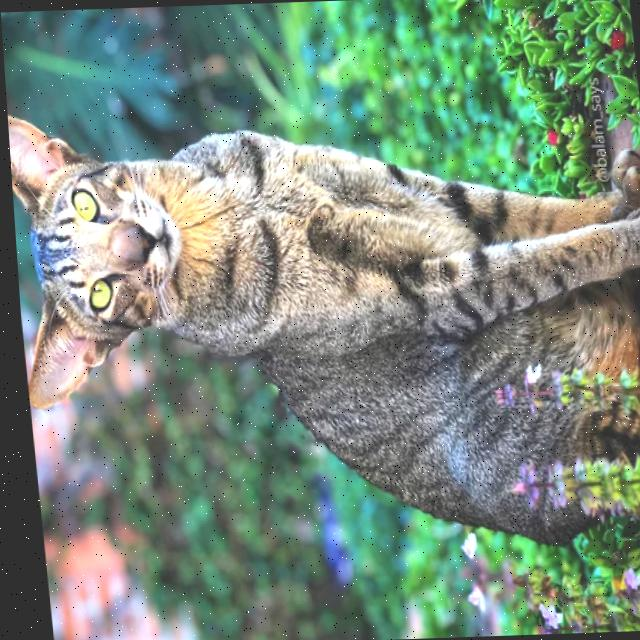Oriental: (4, 83, 640, 559)
